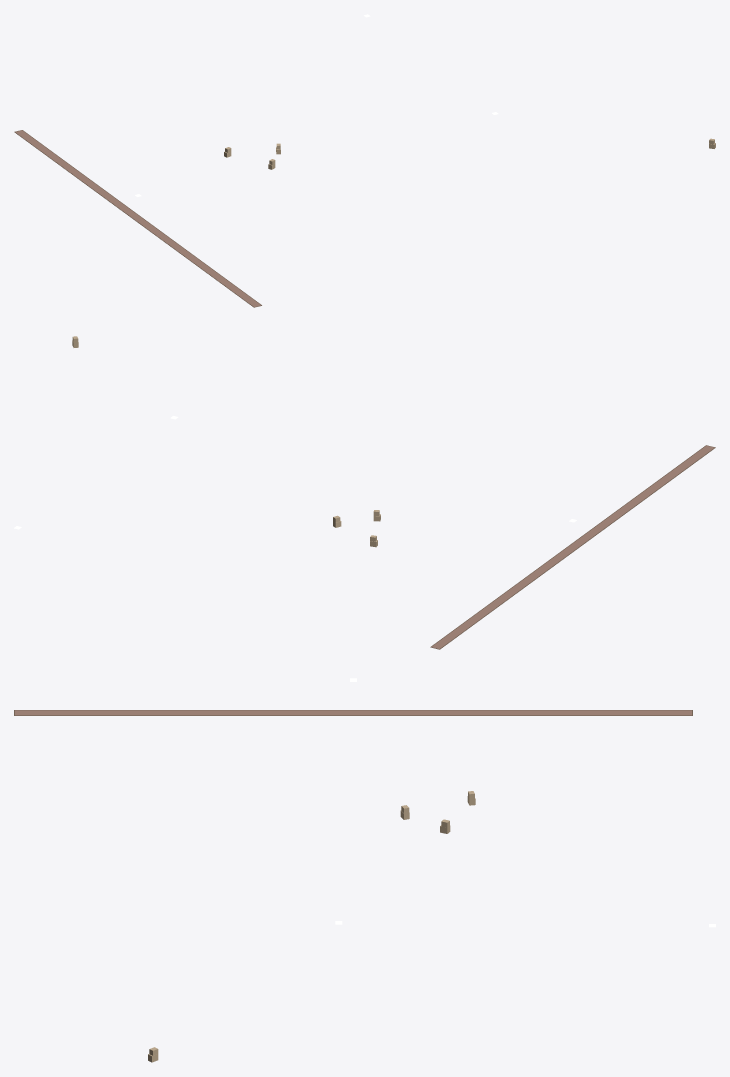
File: fine-s0.glb
The picture shows the model from 3 angles, top to bottom: view 1: azimuth 30°, elevation 25°; view 2: azimuth 150°, elevation 25°; view 3: azimuth 270°, elevation 25°; orthographic projection. The views are drawn at different scales.
Visible parts, largest first — view 1: soft-s0; view 2: soft-s0; view 3: soft-s0.
Part boxes in pixels (box(x1,y1,x2,y2)): soft-s0: box(14, 130, 261, 307); soft-s0: box(430, 445, 715, 649); soft-s0: box(14, 710, 692, 715).
Size of the model in its own units: 59.95 by 2.64 by 50.45.
